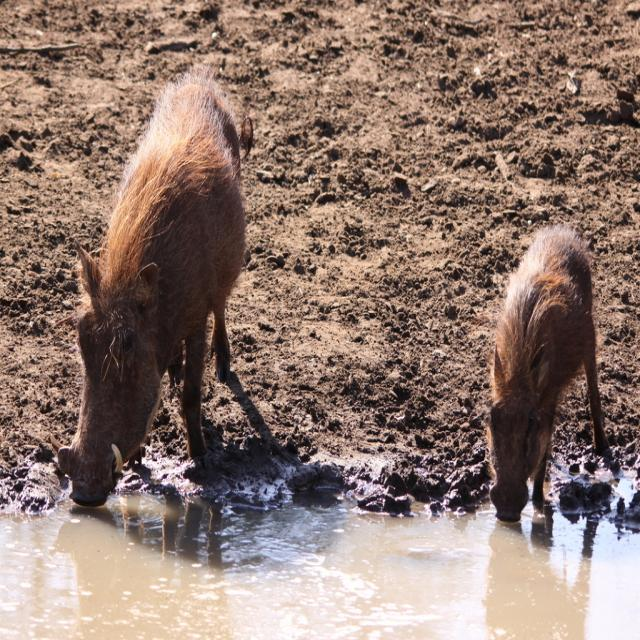Pig: (56, 61, 249, 510), (487, 223, 614, 523)
